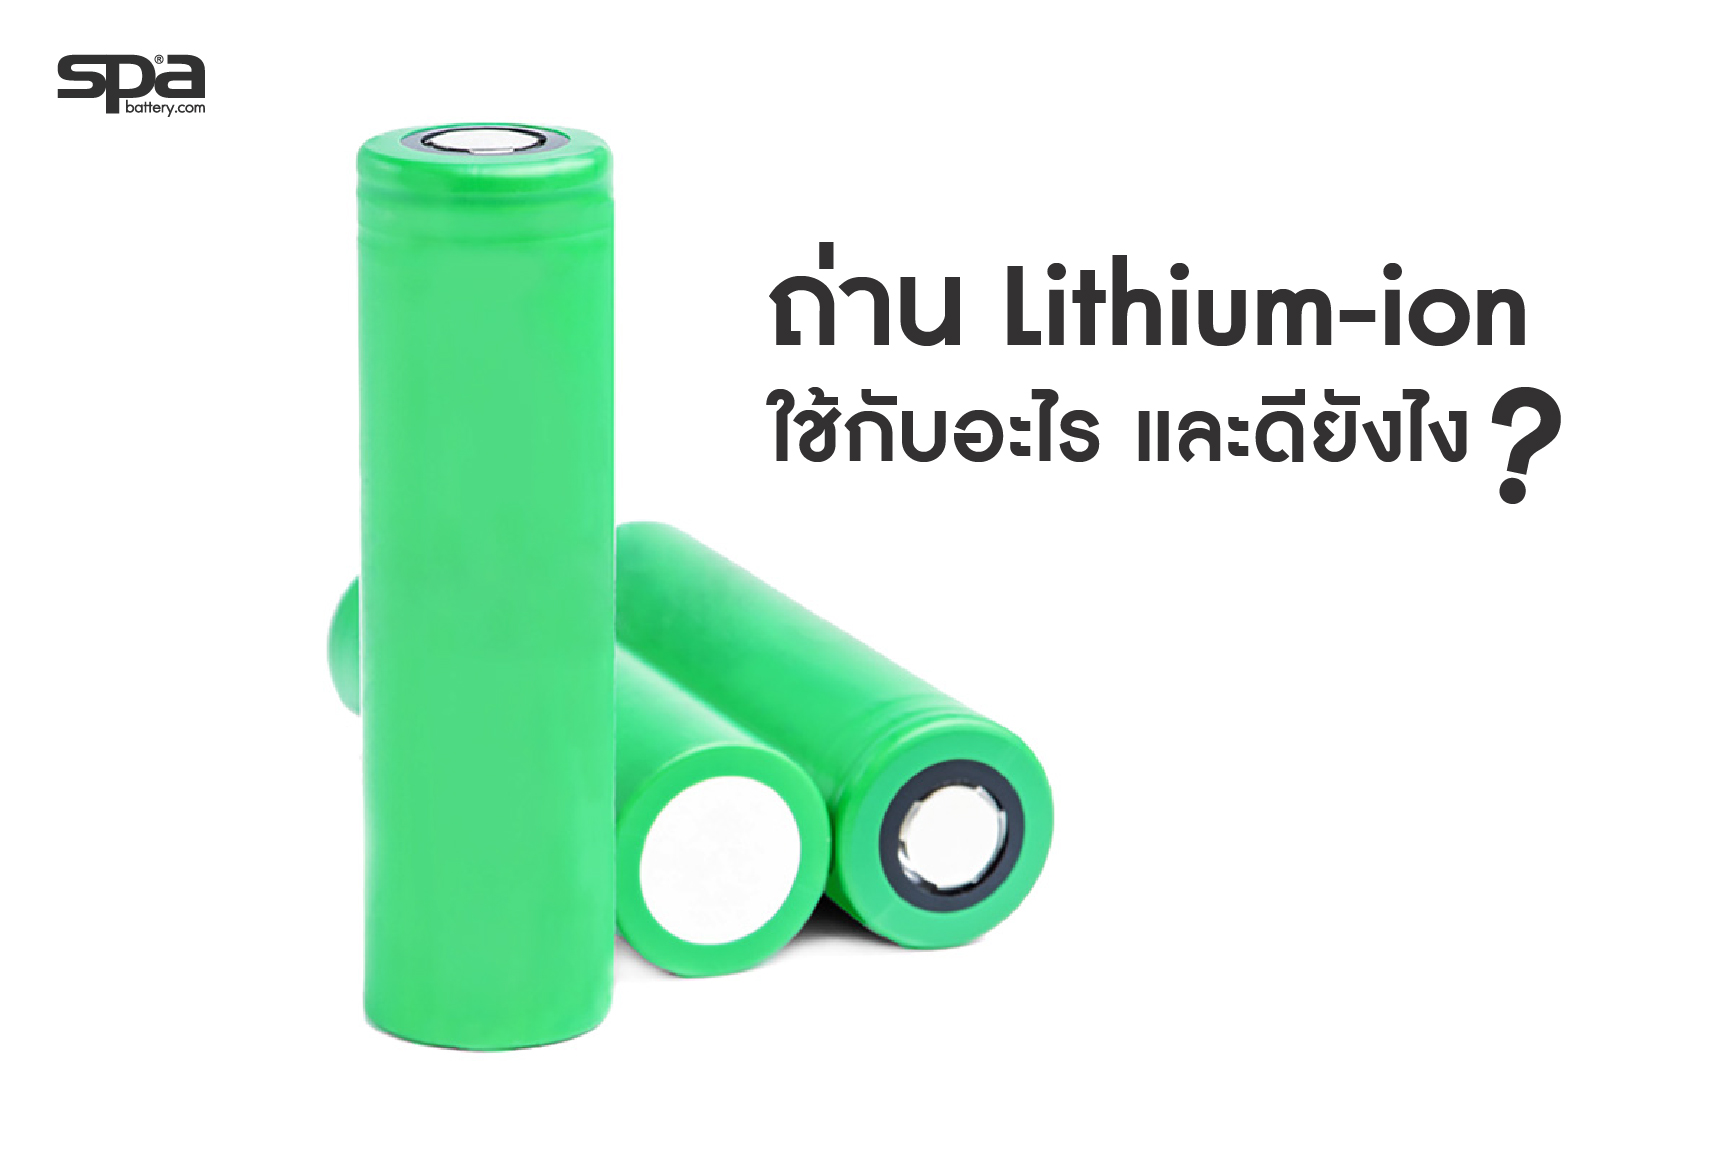Battery: (348, 115, 621, 1057), (614, 504, 1061, 957)
